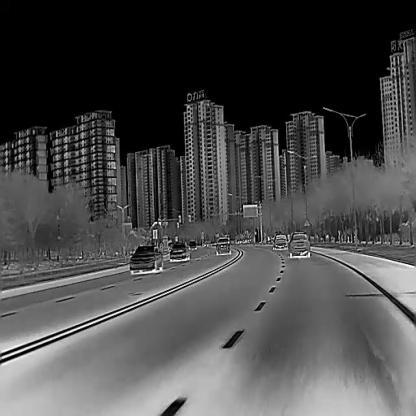car: (128, 244, 163, 273), (286, 232, 311, 257), (169, 242, 191, 262), (216, 237, 232, 255), (273, 234, 288, 249), (189, 239, 196, 249)
